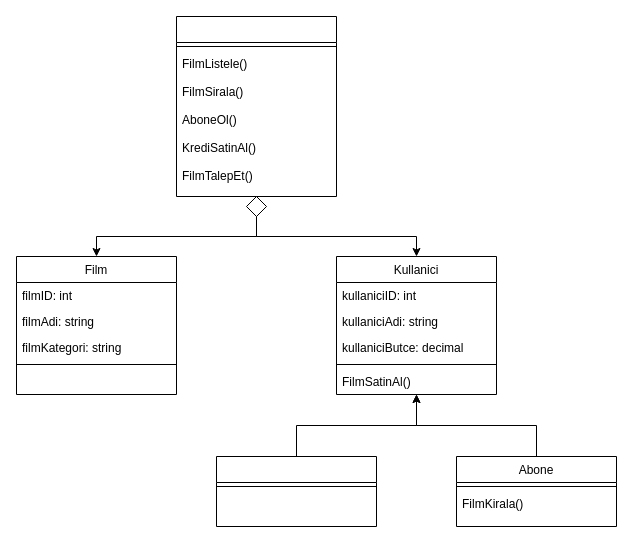
This 633x543 diagram has some shape labels left out. Here are the shapes that lost their labels. From the top down, the box of each, then its label:
(176, 16, 336, 196): FilmUygulamasi
(216, 456, 376, 526): NormalKullanici
